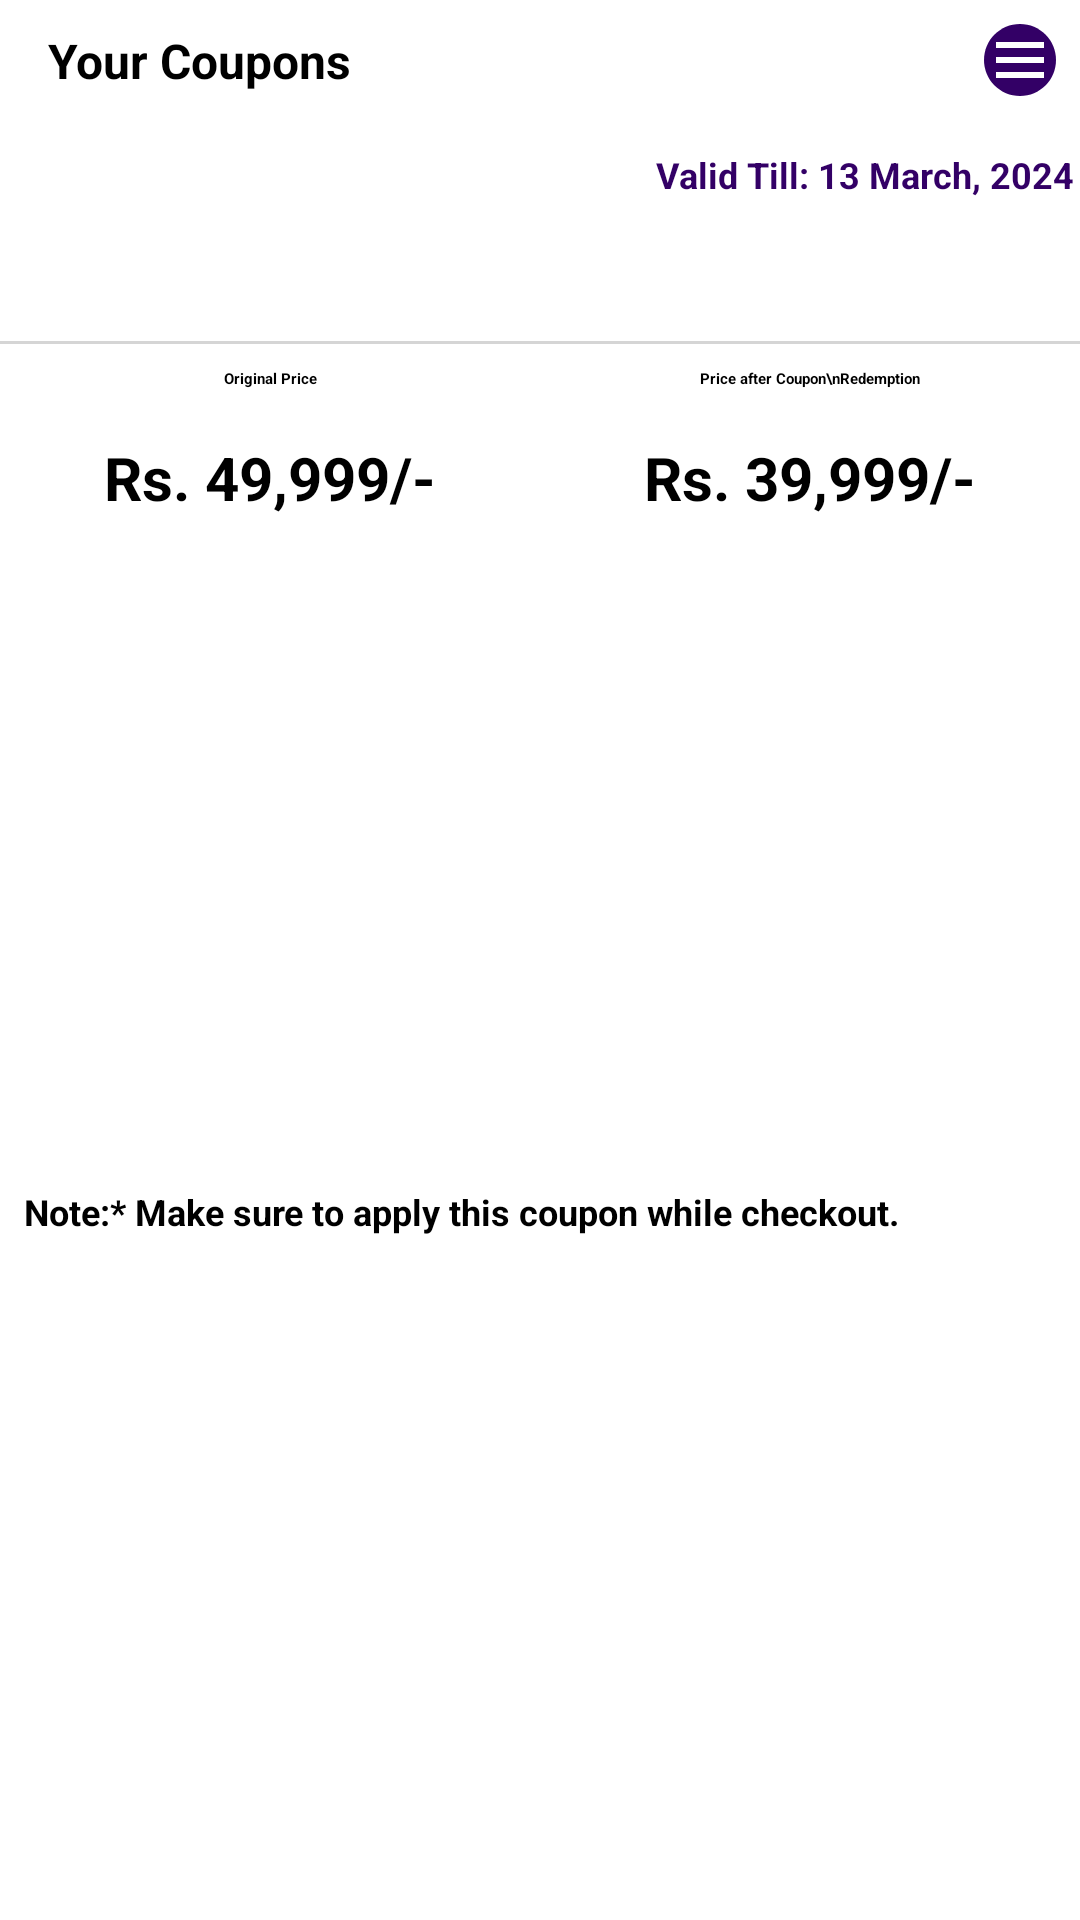

Named icons in this screenshot (1080x1920) and their centers, (x,y):
hamburgericon: (1020,60)
